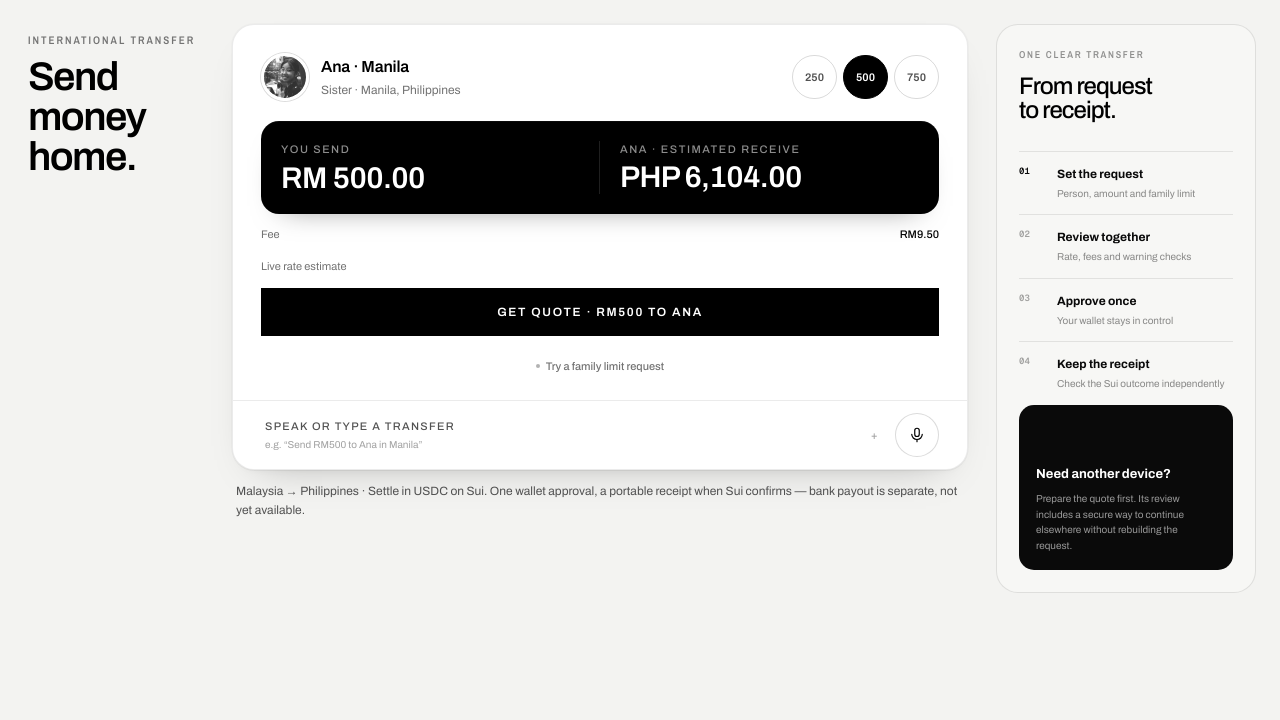
Test: PayWorkspace — premium money sheet visual round › edits a raw amount on focus, restores fixed decimals on blur, and requests that amount
This screenshot has width=1280, height=720.
Focus the field with test id "hero-amount" at (456, 178), box [333, 162, 579, 194]
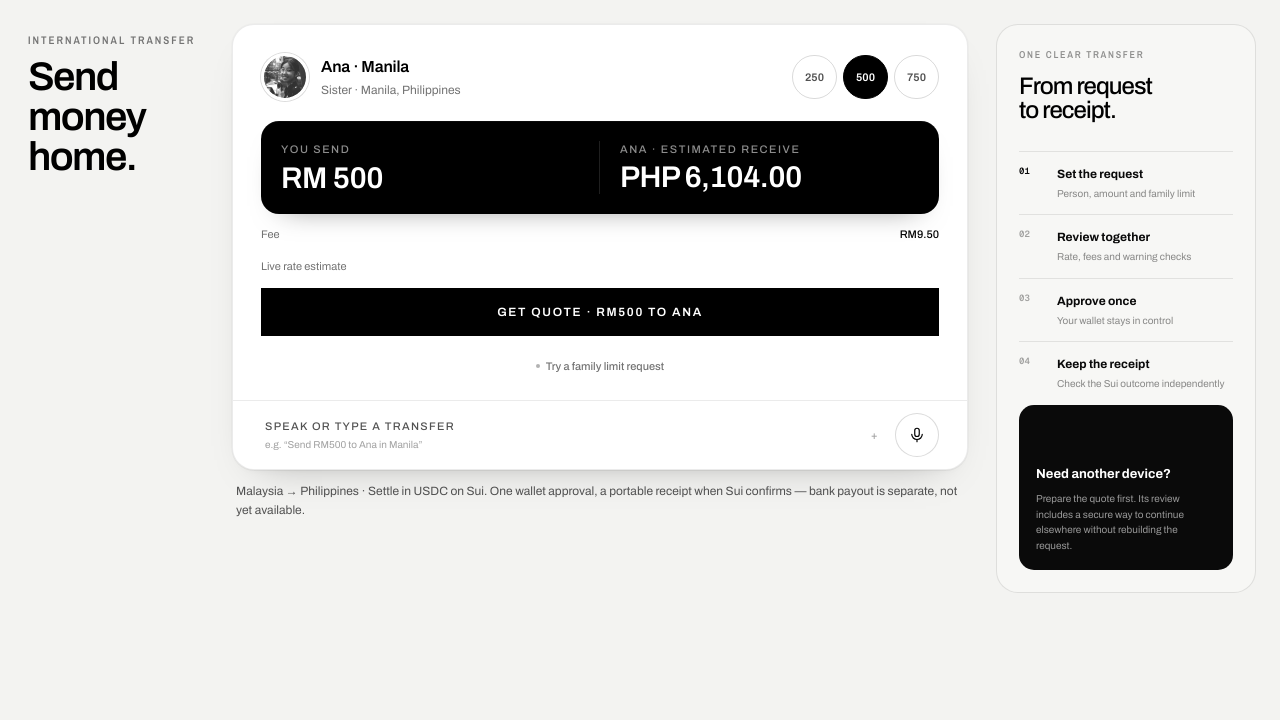
Check: the field with test id "hero-amount" holds "500"
Replace the text in the field with test id "hero-amount" with "750" at (456, 178), box [333, 162, 579, 194]
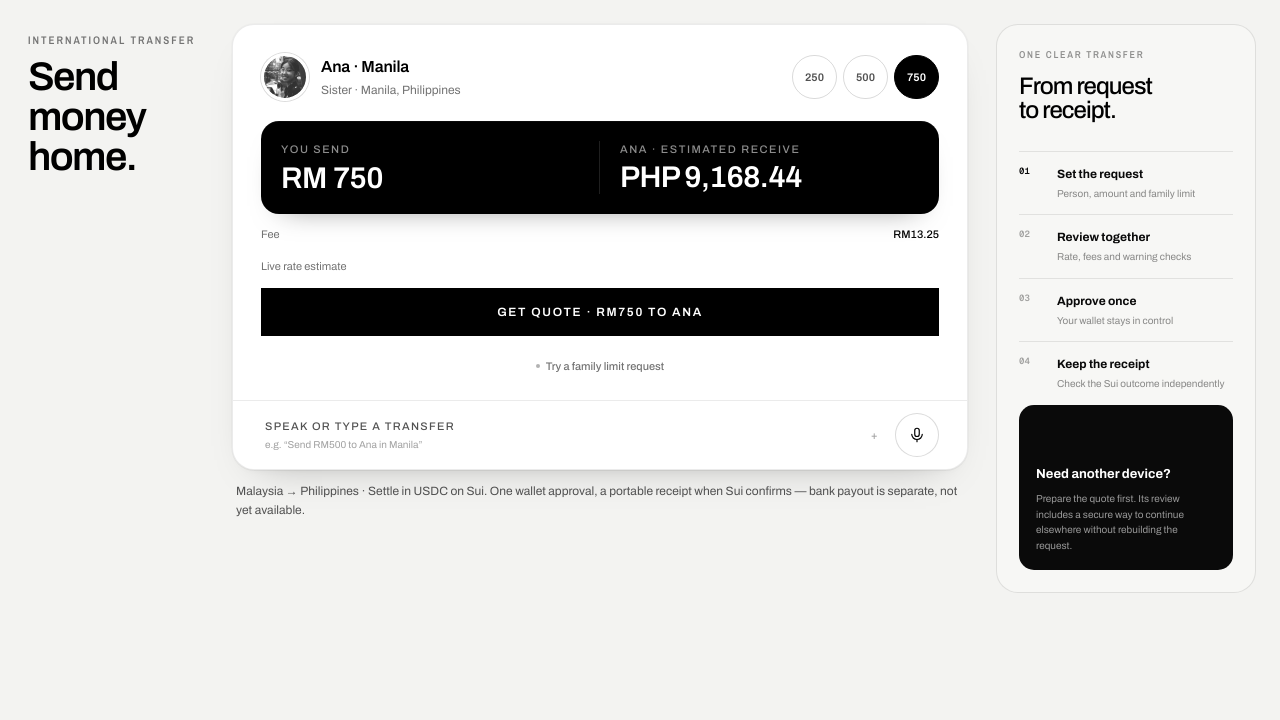
Leave the field with test id "hero-amount", box [333, 162, 579, 194]
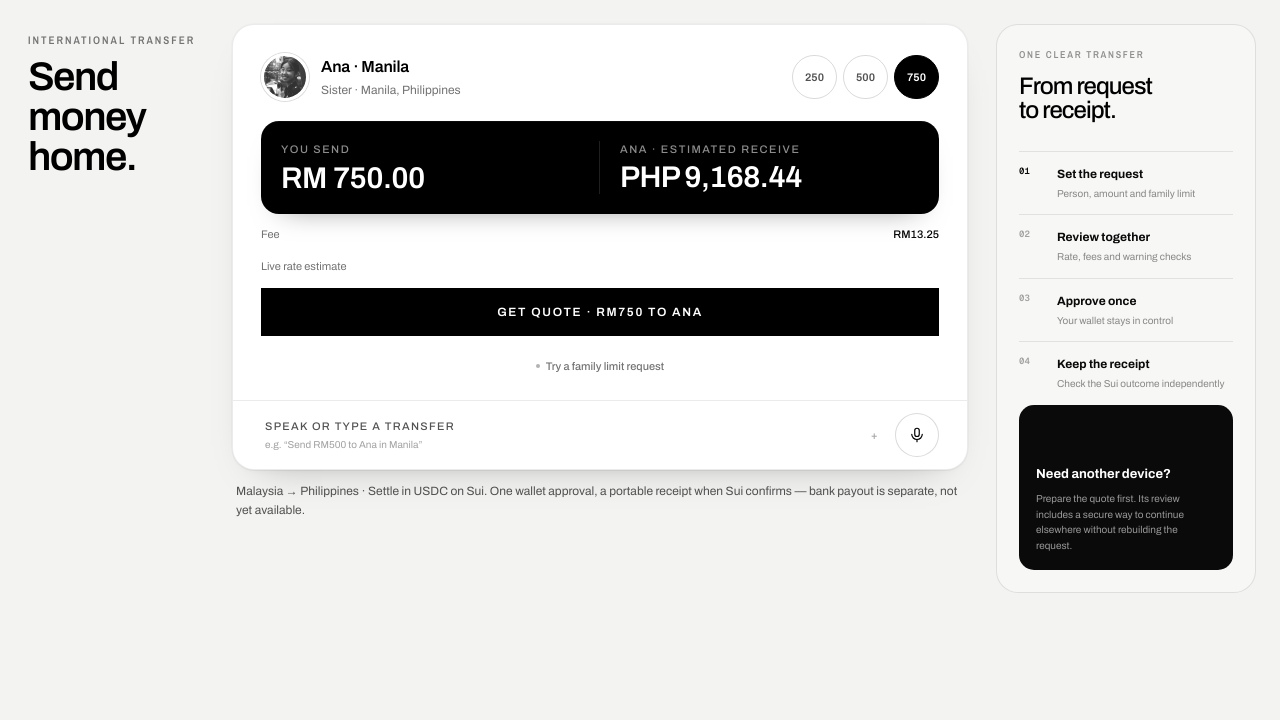
Check: the field with test id "hero-amount" holds "750.00", box [333, 162, 579, 194]
Click the button with test id "see-quote" at (600, 312), box [261, 288, 939, 336]
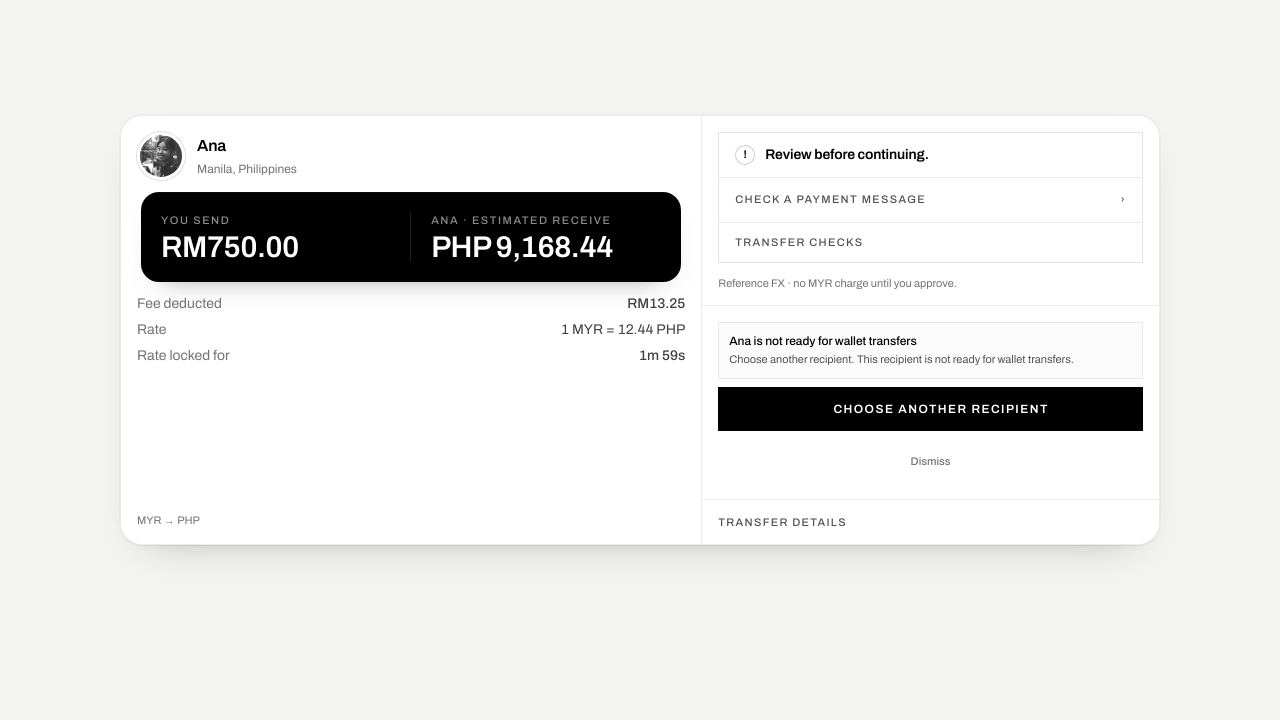
Check: the text with test id "quote-you-pay" reads "RM750.00", box [161, 231, 299, 263]
